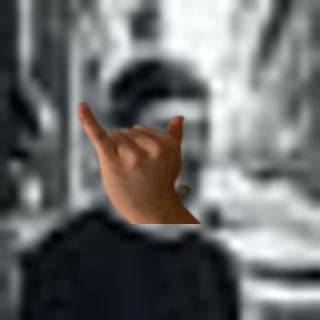HAVE: (69, 99, 195, 218)
